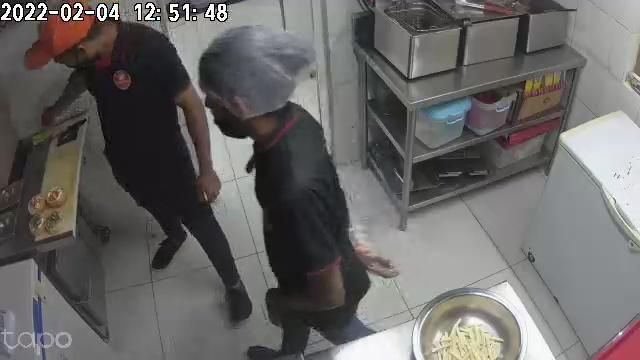no_gloves: (196, 159, 218, 202)
